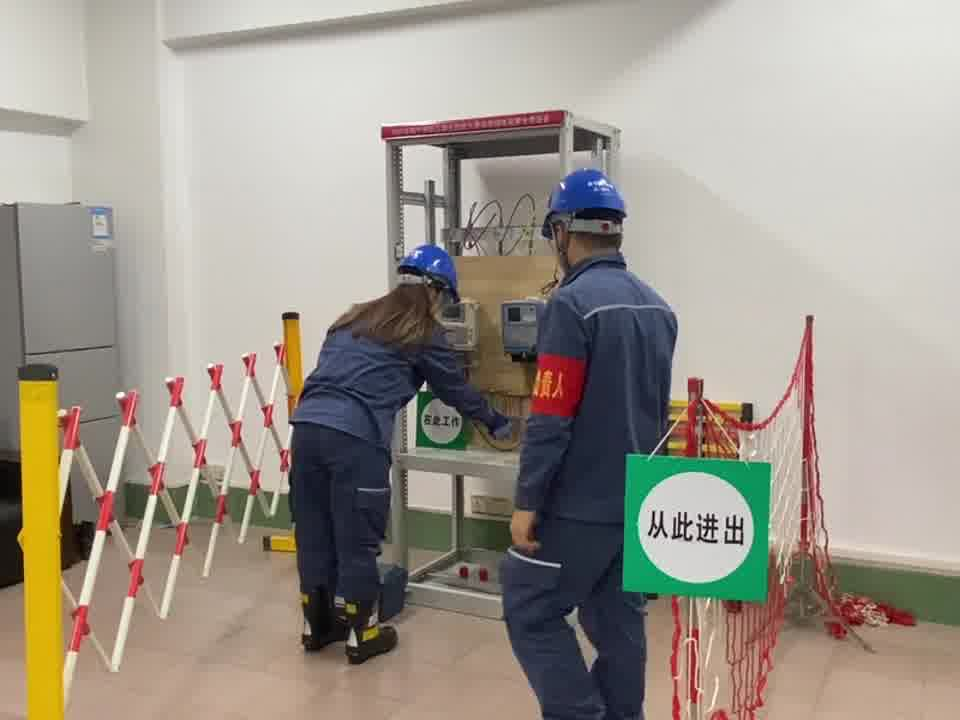badge: (529, 354, 587, 420)
downsuit: (502, 531, 646, 720), (286, 431, 393, 591)
glove: (481, 409, 514, 445)
hair: (344, 243, 460, 331)
halt: (542, 166, 631, 265)
hand: (508, 512, 541, 551)
inear: (545, 212, 575, 258)
intosign: (620, 452, 773, 603)
person: (492, 163, 680, 720), (283, 241, 489, 669)
shoe: (298, 593, 399, 664)
upsuit: (518, 260, 678, 518), (286, 319, 480, 429)
worksign: (412, 392, 470, 452)
